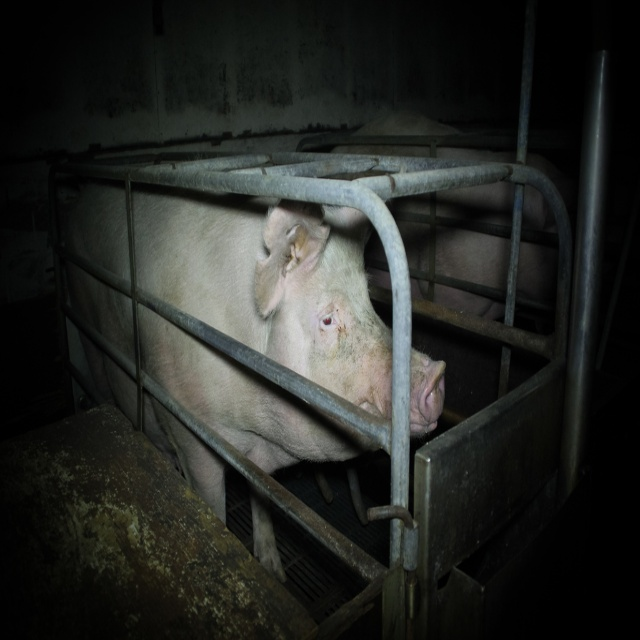Pig: (65, 178, 447, 590)
